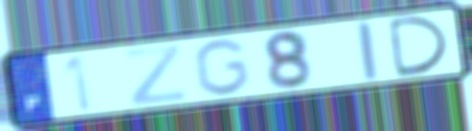1: (62, 54, 93, 111)
8: (263, 28, 315, 91)
D: (385, 14, 453, 79)
G: (190, 37, 252, 98)
I: (352, 18, 382, 83)
Z: (121, 42, 188, 108)
